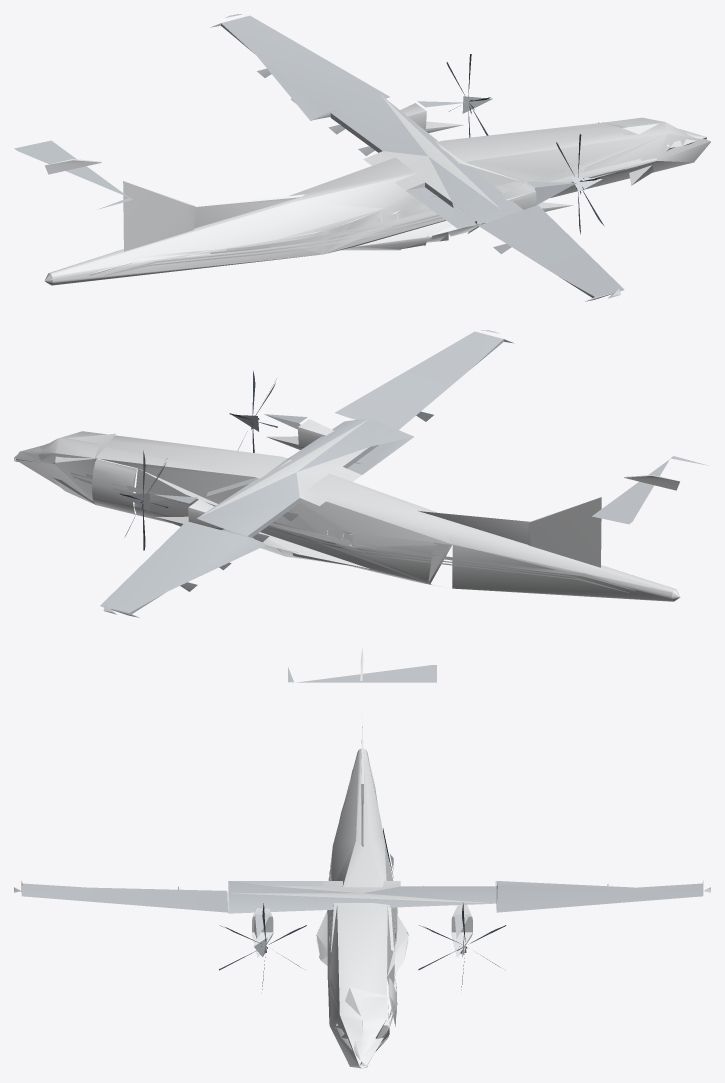
3 views of the same model, one above another, from view 1: azimuth 30°, elevation 25°; view 2: azimuth 150°, elevation 25°; view 3: azimuth 270°, elevation 25° (orthographic). The views are drawn at different scales.
Parts seen in each view (by area): view 1: hull, wing, tail, band-cheatline, engine, band-belly-trim, band-cheatline-trim; view 2: hull, wing, tail, band-cheatline, engine, band-belly-trim, band-cheatline-trim; view 3: hull, wing, engine.
Part boxes in pixels (box(x1,y1,x2,y2)): hull: box(46, 95, 710, 285); wing: box(14, 14, 624, 301); tail: box(44, 159, 305, 280); band-cheatline: box(89, 159, 641, 275); engine: box(400, 103, 573, 211); band-belly-trim: box(97, 165, 646, 277); band-cheatline-trim: box(104, 163, 653, 275); hull: box(14, 419, 678, 601); wing: box(100, 330, 709, 617); tail: box(419, 475, 679, 597); band-cheatline: box(86, 474, 635, 591); engine: box(156, 419, 334, 529); band-belly-trim: box(79, 479, 628, 592); band-cheatline-trim: box(72, 476, 621, 590); hull: box(231, 748, 493, 1068); wing: box(14, 665, 710, 956); engine: box(252, 904, 472, 957).
Bounding box in the file's own units: 27.2 × 6.45 × 27.1.
